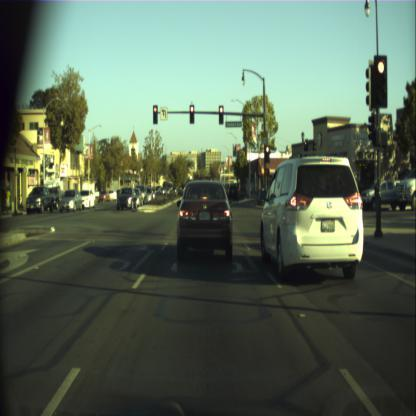Red: (376, 58, 387, 102), (218, 105, 224, 124), (264, 145, 270, 162), (189, 104, 194, 124)
RedLeft: (152, 104, 158, 124)
